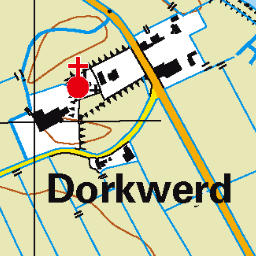church: (61, 53, 91, 101)
